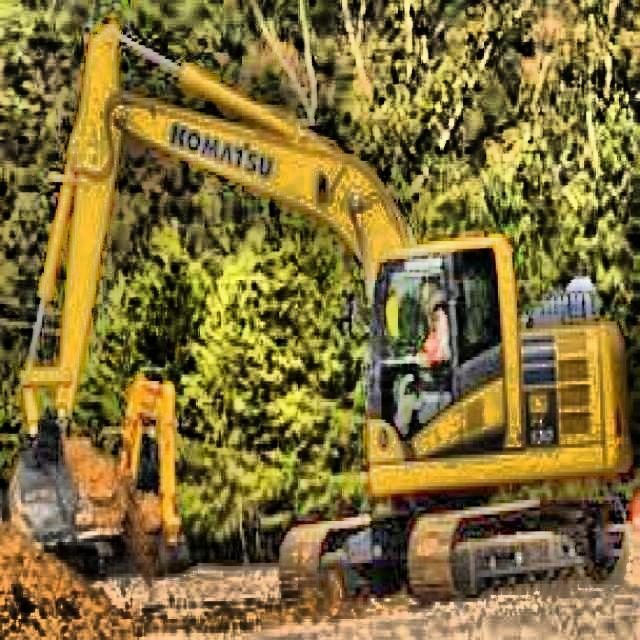bull_dozer/loader/grader: (4, 17, 640, 604), (96, 376, 195, 578)
person: (396, 282, 450, 436)
